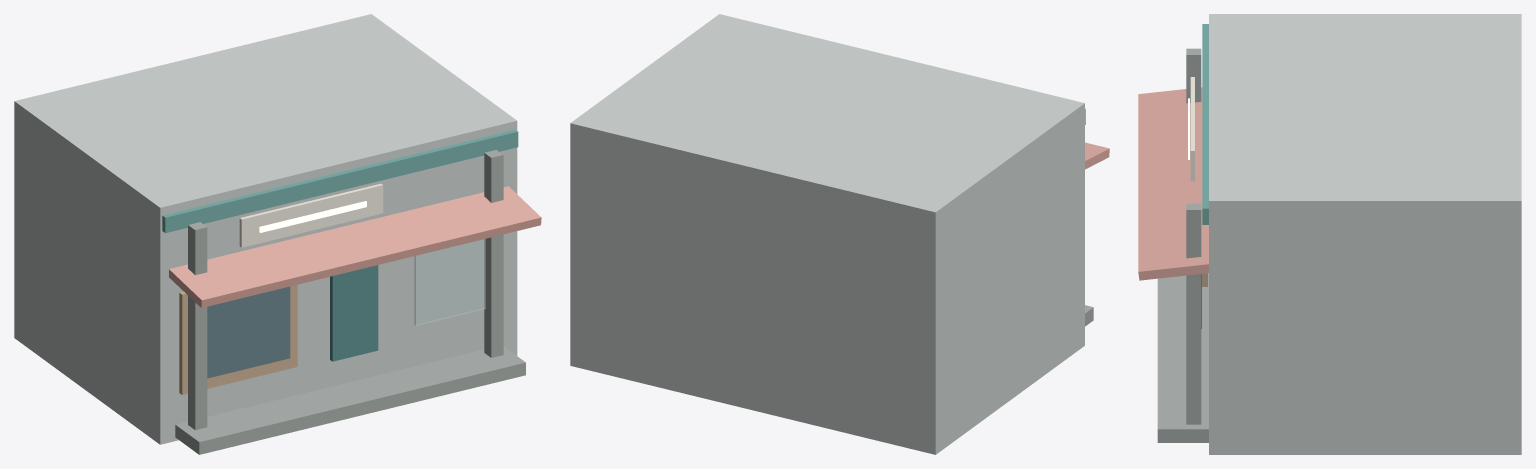
File: yaba_compound_shop.glb
3 renders of one model, left to right at view 1: azimuth 30°, elevation 25°; view 2: azimuth 150°, elevation 25°; view 3: azimuth 270°, elevation 25°, orthographic. The views are drawn at different scales.
Parts seen in each view (by area): view 1: shop_shell, shop_awning, shop_step, shop_front_band, shop_left_opening, shop_right_window, shop_door, shop_sign, shop_pillar_-3.4, shop_pillar_3.4, shop_left_shutter, shop_sign_accent; view 2: shop_shell; view 3: shop_shell, shop_awning, shop_step, shop_pillar_3.4, shop_front_band, shop_pillar_-3.4, shop_sign.
Boxes of the visible parts, bbox=[...] form: shop_shell: bbox=[14, 14, 517, 444]; shop_awning: bbox=[169, 186, 541, 307]; shop_step: bbox=[175, 346, 525, 454]; shop_front_band: bbox=[162, 129, 518, 232]; shop_left_opening: bbox=[207, 286, 290, 378]; shop_right_window: bbox=[414, 239, 485, 325]; shop_door: bbox=[330, 265, 378, 361]; shop_sign: bbox=[239, 183, 383, 247]; shop_pillar_-3.4: bbox=[188, 222, 207, 430]; shop_pillar_3.4: bbox=[484, 150, 503, 357]; shop_left_shutter: bbox=[179, 284, 297, 394]; shop_sign_accent: bbox=[259, 201, 366, 232]; shop_shell: bbox=[570, 14, 1084, 454]; shop_shell: bbox=[1209, 14, 1521, 454]; shop_awning: bbox=[1138, 87, 1208, 280]; shop_step: bbox=[1157, 273, 1208, 442]; shop_pillar_3.4: bbox=[1186, 203, 1201, 424]; shop_front_band: bbox=[1202, 24, 1208, 224]; shop_pillar_-3.4: bbox=[1186, 48, 1201, 103]; shop_sign: bbox=[1190, 77, 1194, 181].
Size of what is drawn, in the model's own units: 8.2 by 5.2 by 7.11.
